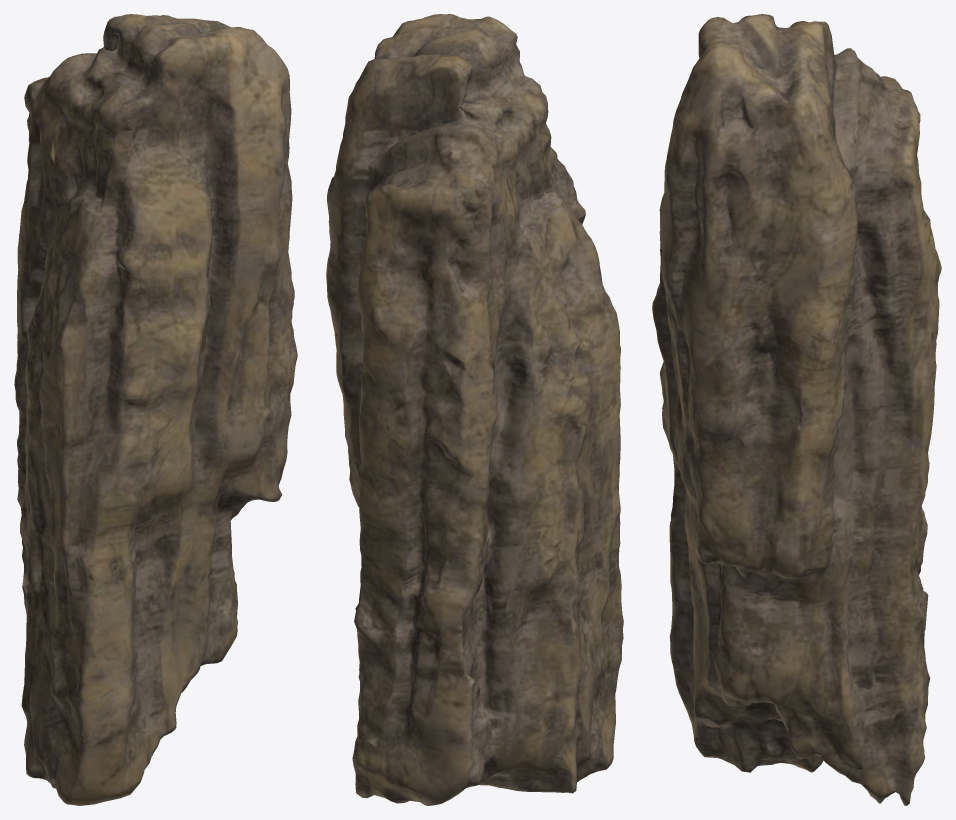
File: SM_rock_02.glb
3 views of the same model, side by side, from view 1: azimuth 30°, elevation 25°; view 2: azimuth 150°, elevation 25°; view 3: azimuth 270°, elevation 25° (orthographic). The views are drawn at different scales.
Parts seen in each view (by area): view 1: SM_rock_02; view 2: SM_rock_02; view 3: SM_rock_02.
Boxes of the visible parts, x1,y1,x2,y2 form: SM_rock_02: [14, 14, 297, 805]; SM_rock_02: [326, 14, 623, 805]; SM_rock_02: [652, 14, 941, 805].
Bounding box in the file's own units: 6.52 × 18.89 × 6.41.
1 material, 1 textured.
